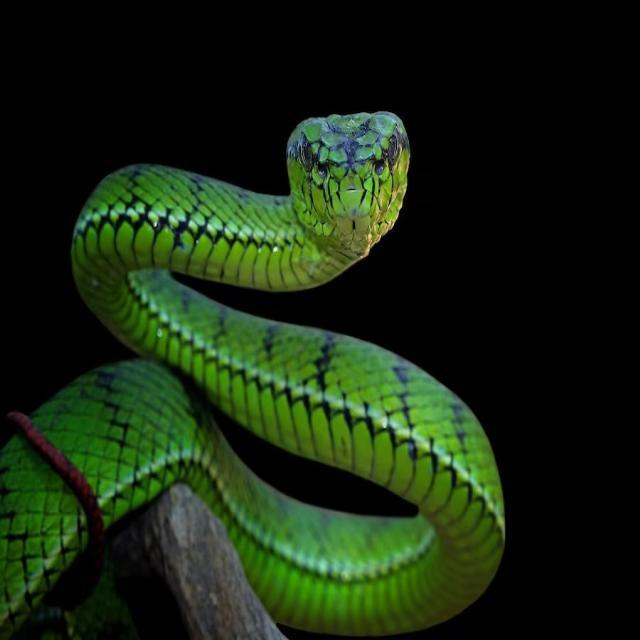Snake: (0, 100, 519, 605)
